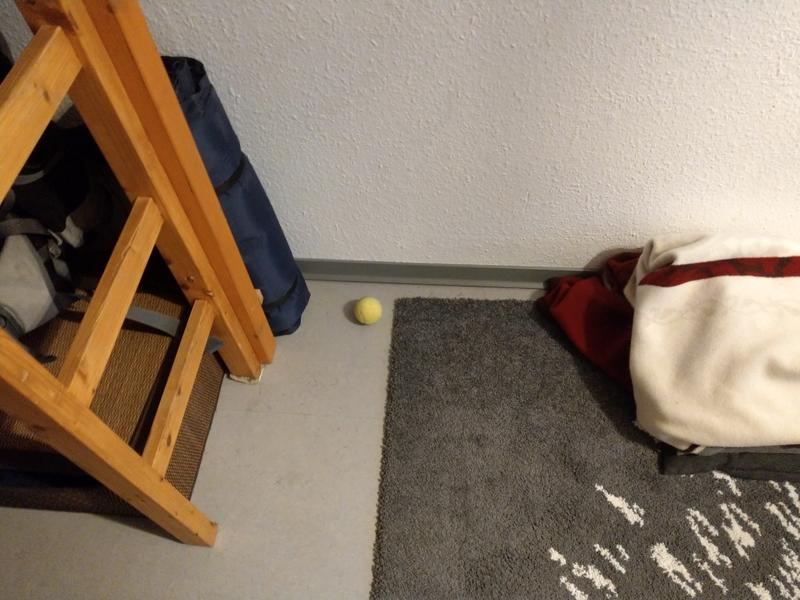Tennisball: (354, 296, 382, 325)
